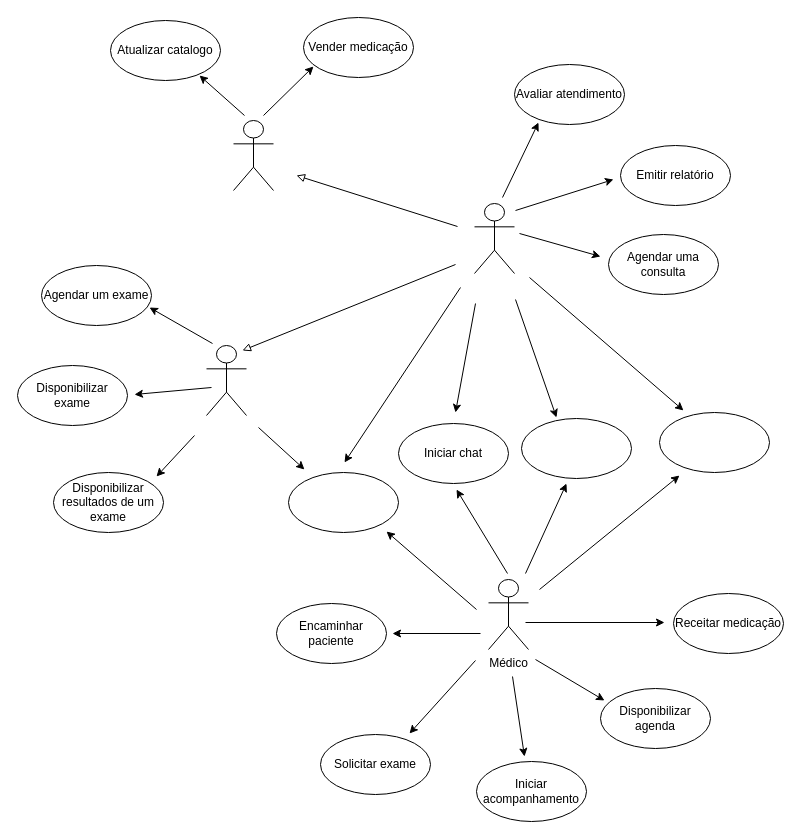
Image size: 801x839. Some labels were removed from this diagram. Each missing label, with the box of its shape:
Cencelar agendamento: (288, 472, 398, 532)
Farmácia: (232, 120, 274, 190)
Gerenciar acompanhamentos: (658, 412, 770, 472)
Laboratório: (206, 344, 246, 416)
Paciente: (474, 202, 514, 274)
Ver resultados de um exame: (520, 418, 632, 478)
